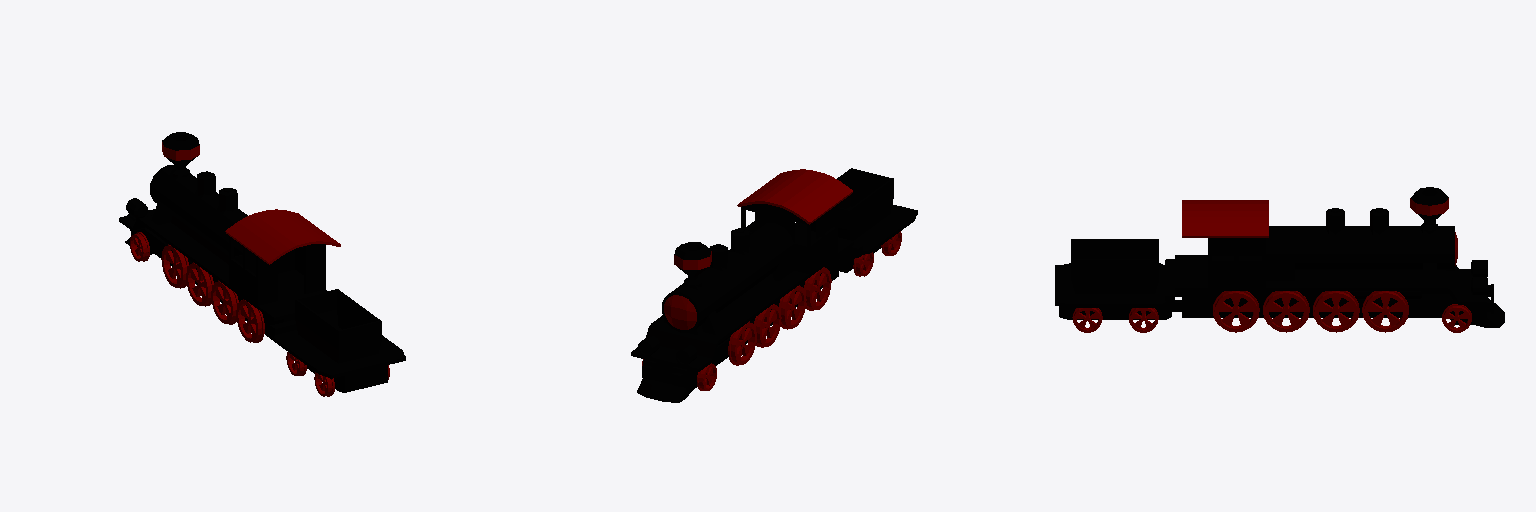
Rendered from locomotive.obj.
3 views of the same model, side by side, from view 1: azimuth 30°, elevation 25°; view 2: azimuth 150°, elevation 25°; view 3: azimuth 270°, elevation 25° (orthographic).
Visible parts, largest first — view 1: Cube_Cube.002; view 2: Cube_Cube.002; view 3: Cube_Cube.002.
Part boxes in pixels (bbox=[...]): Cube_Cube.002: bbox=[119, 132, 405, 396]; Cube_Cube.002: bbox=[631, 168, 917, 402]; Cube_Cube.002: bbox=[1055, 187, 1504, 332].
Bounding box in the file's own units: 3.15 × 4.53 × 14.63.